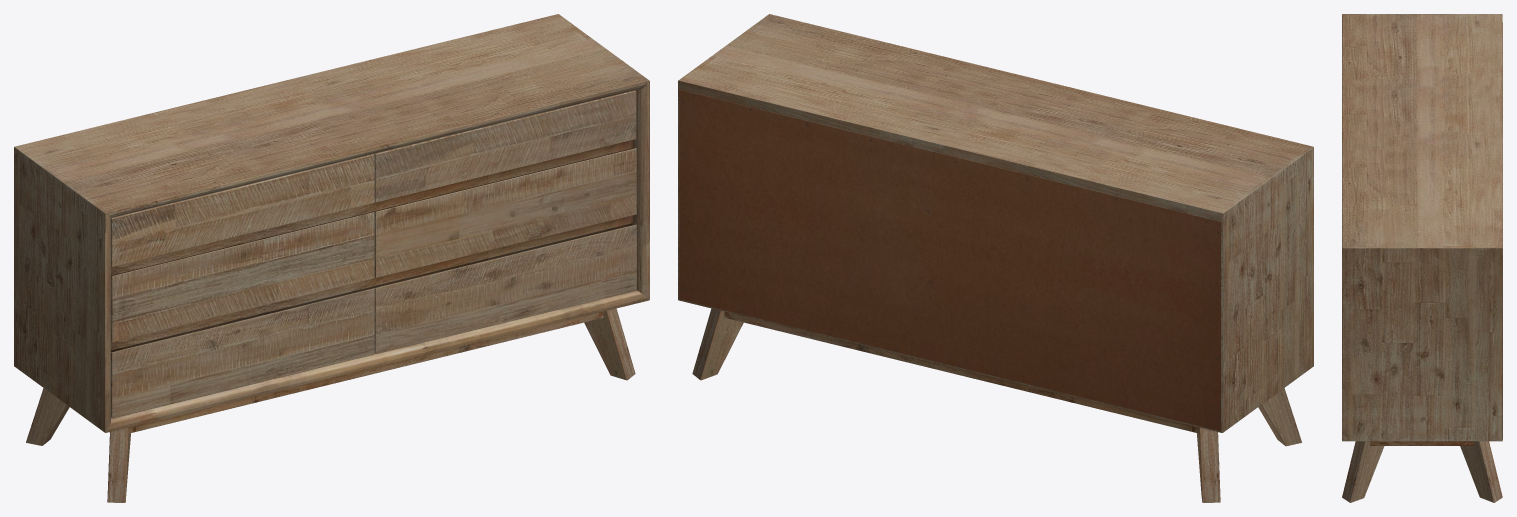
The model's file is dresser-6-drawer.glb.
The picture shows the model from 3 angles, left to right: view 1: azimuth 30°, elevation 25°; view 2: azimuth 150°, elevation 25°; view 3: azimuth 270°, elevation 25°; orthographic projection. The views are drawn at different scales.
Visible parts, largest first — view 1: RootNode; view 2: RootNode; view 3: RootNode.
Part boxes in pixels (x1=…): RootNode: x1=14, y1=14, x2=649, y2=502; RootNode: x1=678, y1=14, x2=1313, y2=502; RootNode: x1=1342, y1=14, x2=1502, y2=502.
Bounding box in the file's own units: 1.55 × 0.8 × 0.45.
1 material, 1 textured.
